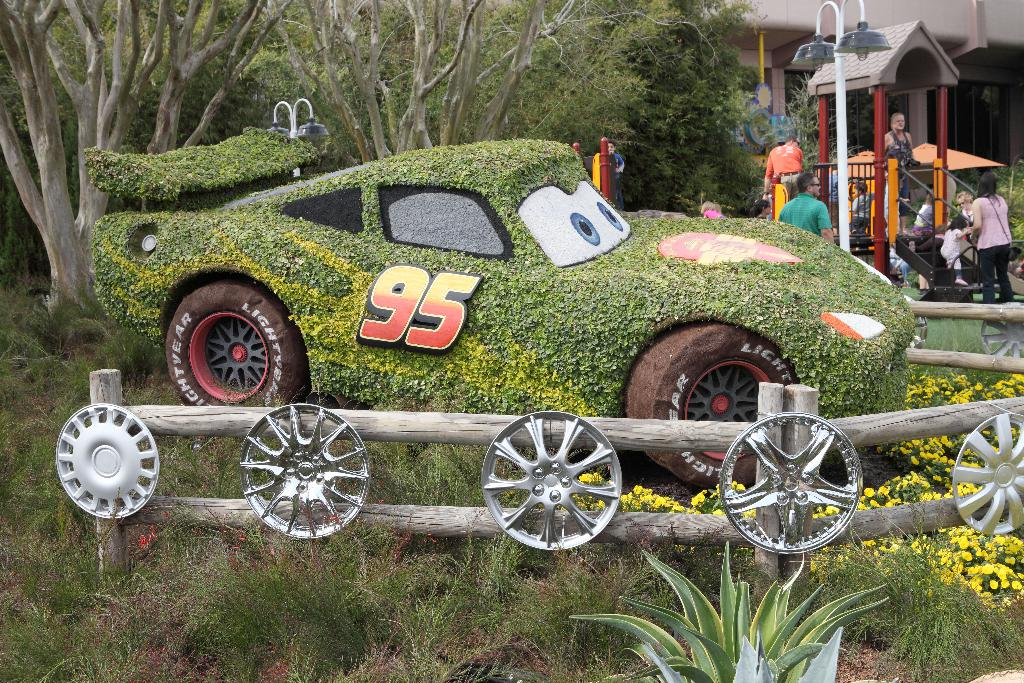Car: (153, 172, 892, 440)
